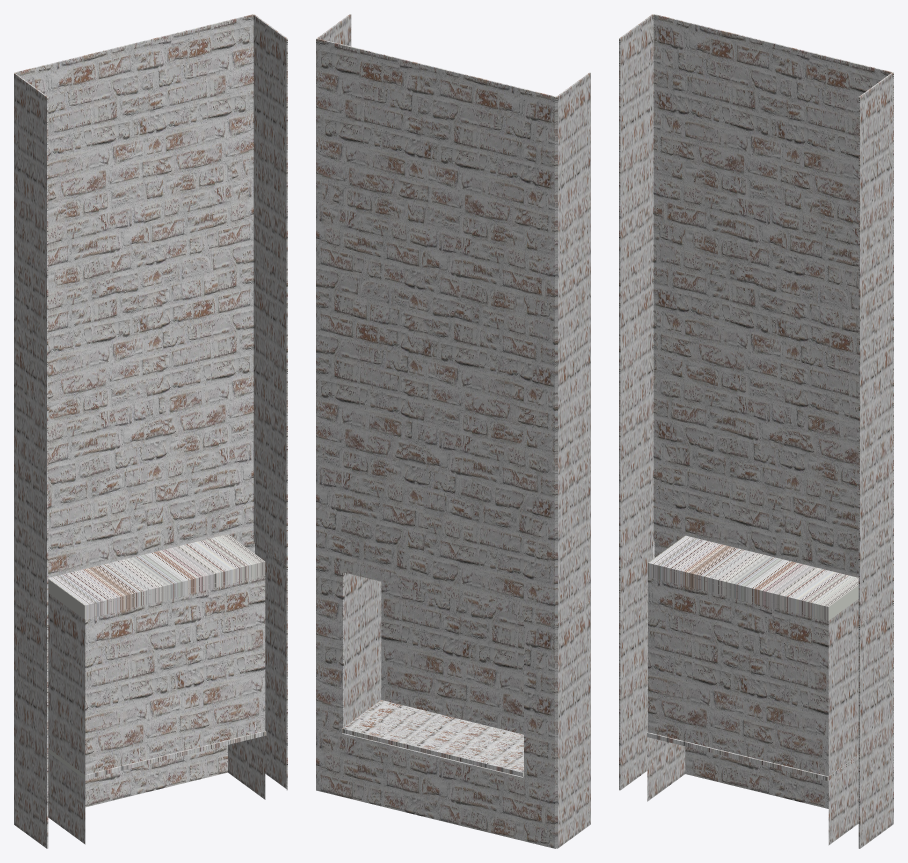
The model's file is firebox.fbx.
The picture shows the model from 3 angles, left to right: view 1: azimuth 30°, elevation 25°; view 2: azimuth 150°, elevation 25°; view 3: azimuth 330°, elevation 25°; orthographic projection.
Visible parts, largest first — view 1: LougeFire.001; view 2: LougeFire.001; view 3: LougeFire.001.
Part boxes in pixels (left/top/right/bottom): LougeFire.001: left=14, top=14, right=287, bottom=848; LougeFire.001: left=316, top=14, right=590, bottom=848; LougeFire.001: left=619, top=14, right=893, bottom=848.
Size of the model in its own units: 96.06 by 286 by 27.67.
